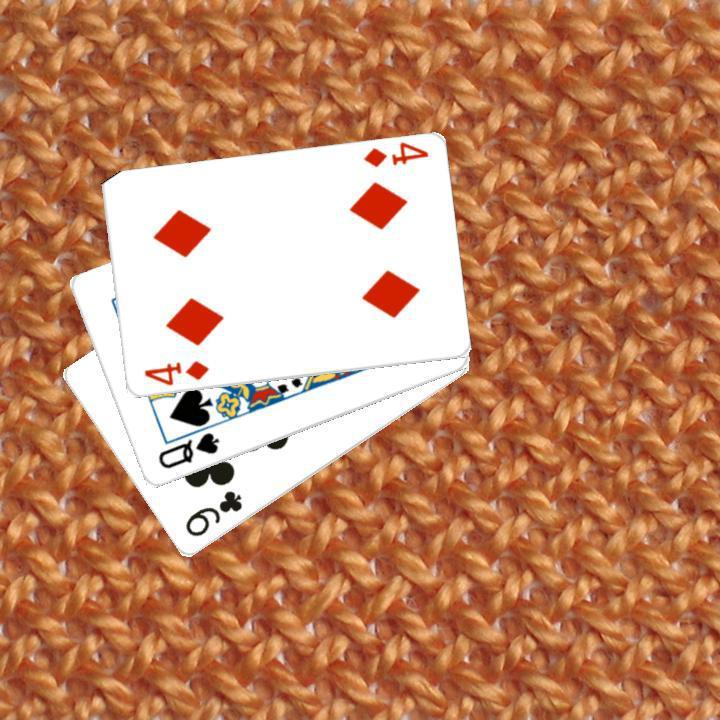4: (358, 139, 430, 170), (139, 357, 210, 388)
9: (180, 486, 245, 540)
Q: (153, 428, 222, 471)
